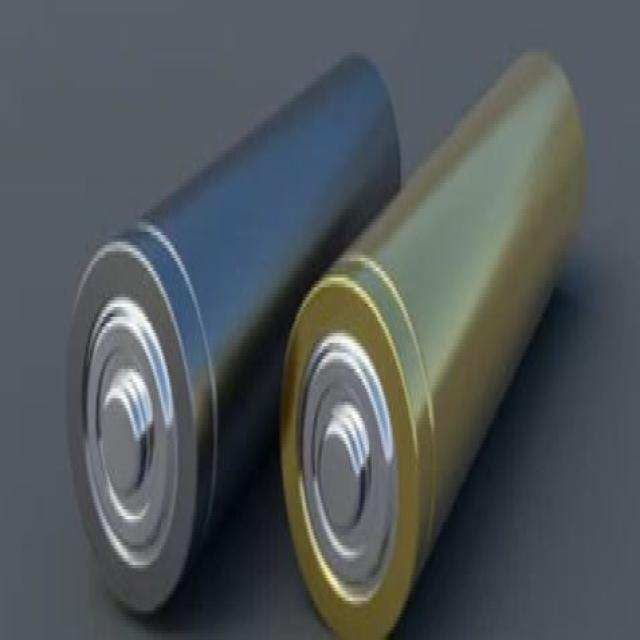electronic: (29, 19, 622, 640)
